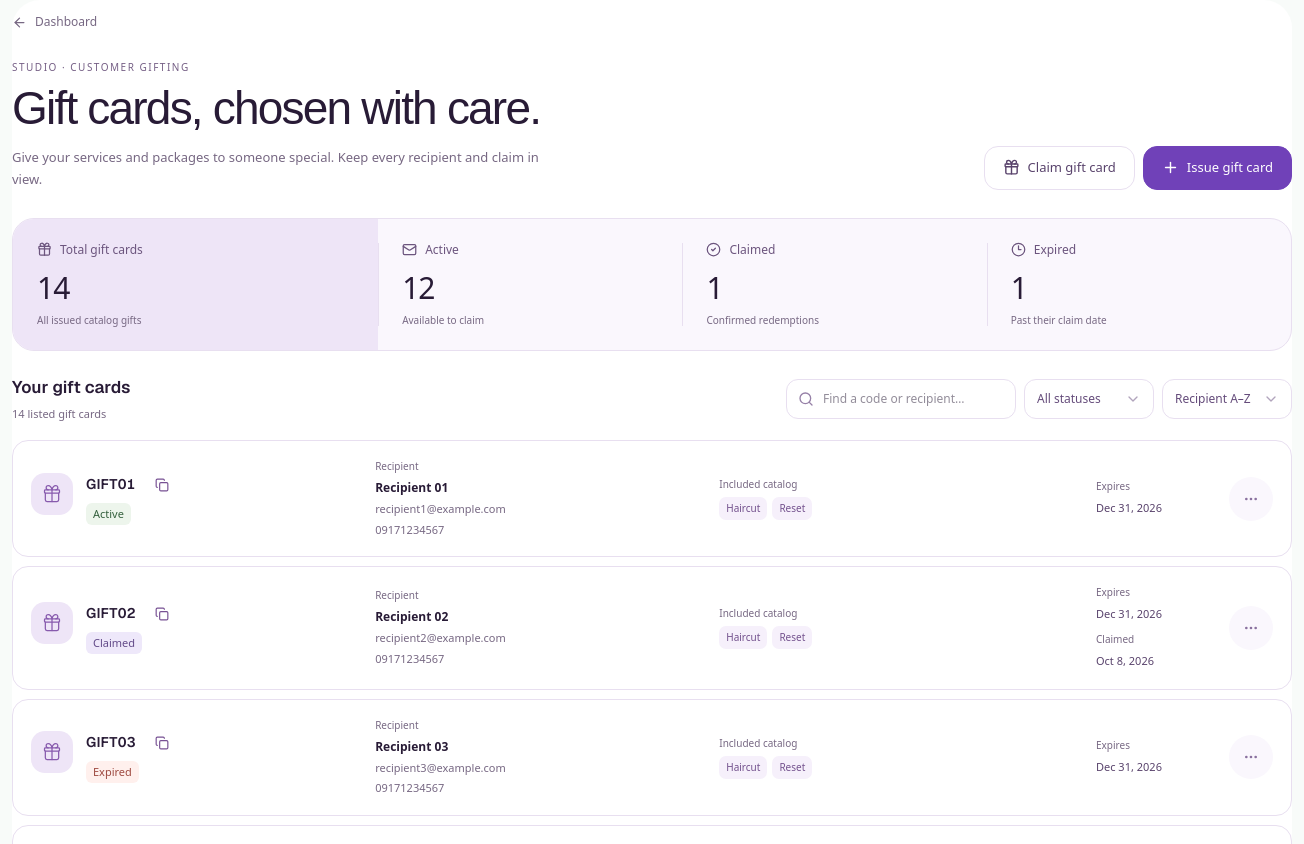
it: redesign gift cards › uses styled status and sort menus and preserves claimed and expiry dates
Press ArrowDown in the dropdown named "Filter by status", box 1024,379 -> 1154,419
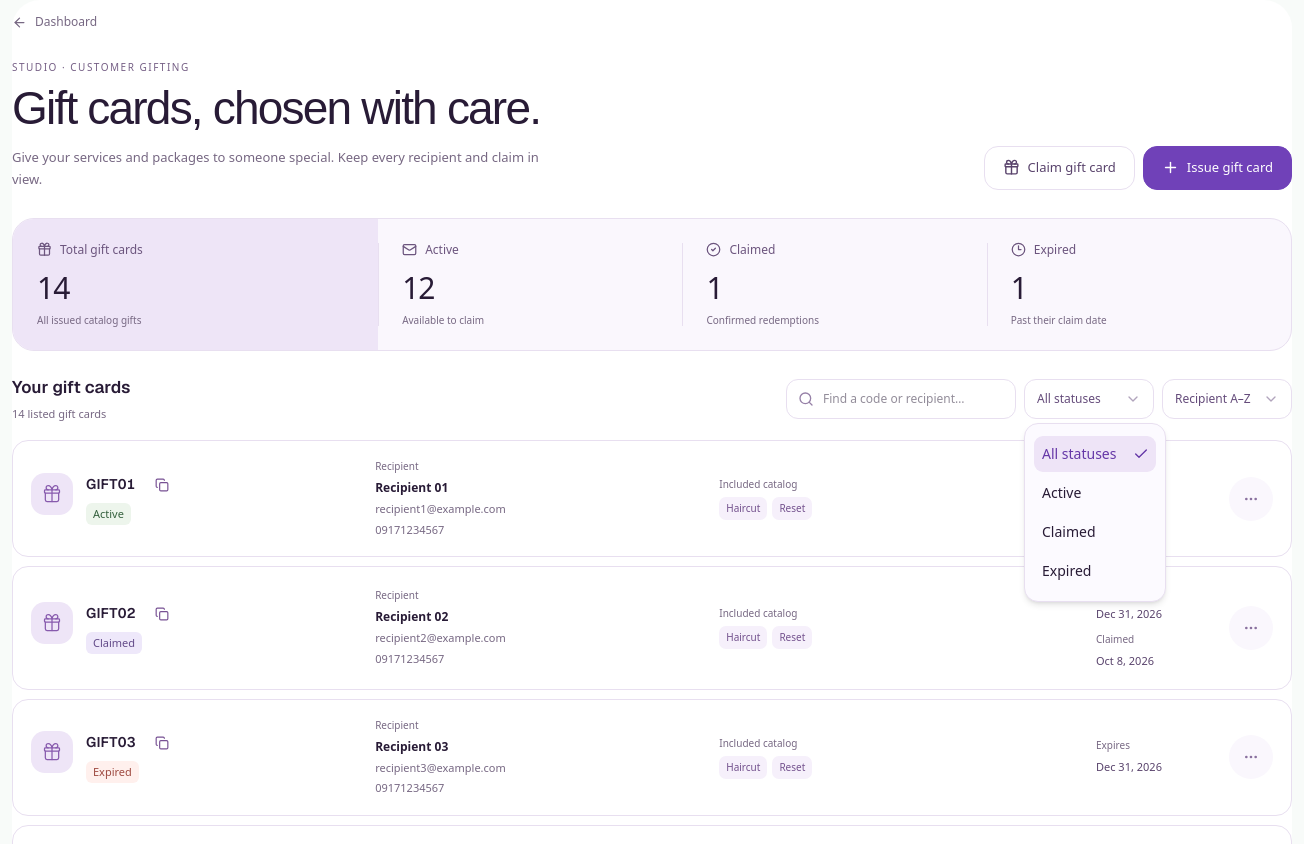
Click the option "Claimed" at (1069, 532), box 1042,522 -> 1096,541
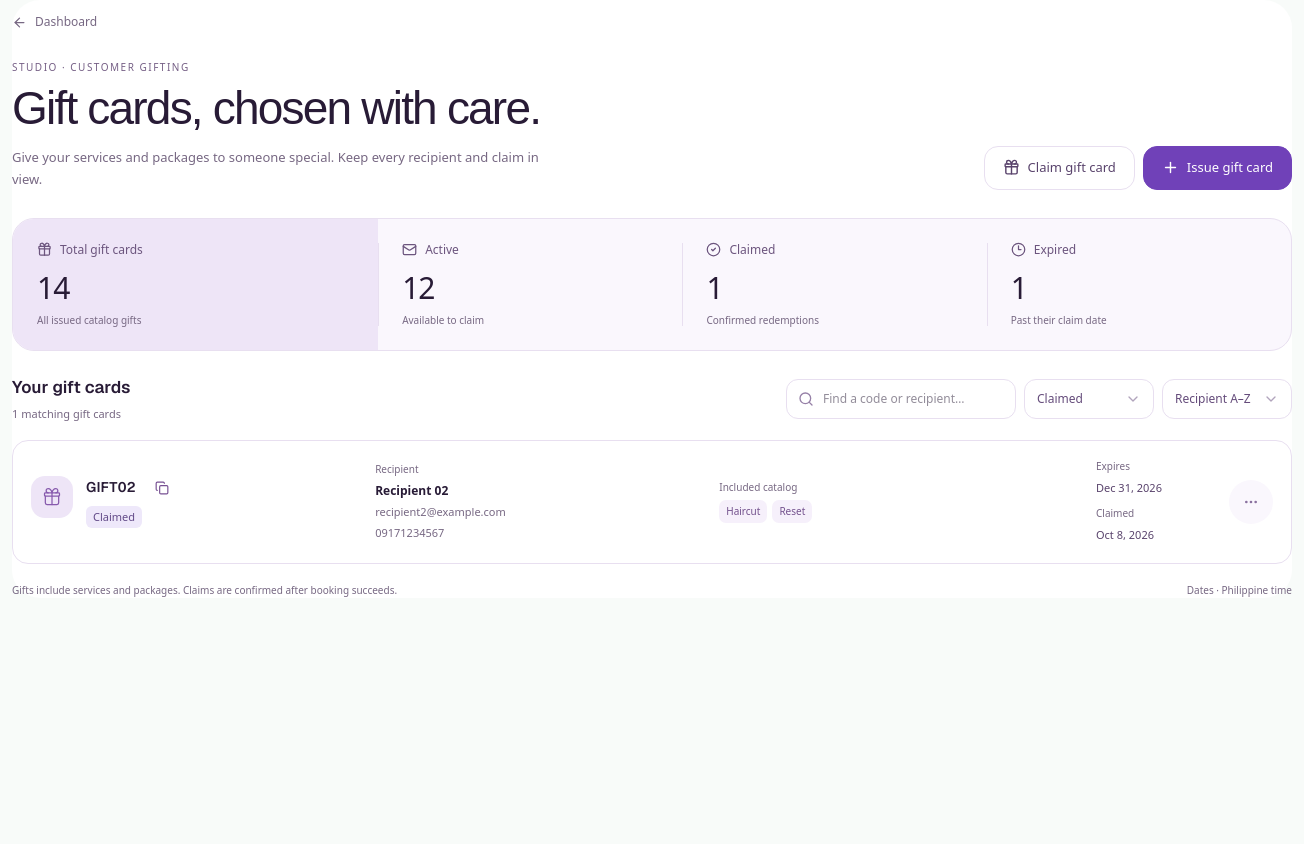
Check: the heading "GIFT02" is shown, box 86,477 -> 136,498
Check: the number of list items is 1, box 12,440 -> 1292,564
Press ArrowDown in the dropdown named "Sort gift cards", box 1162,379 -> 1292,419
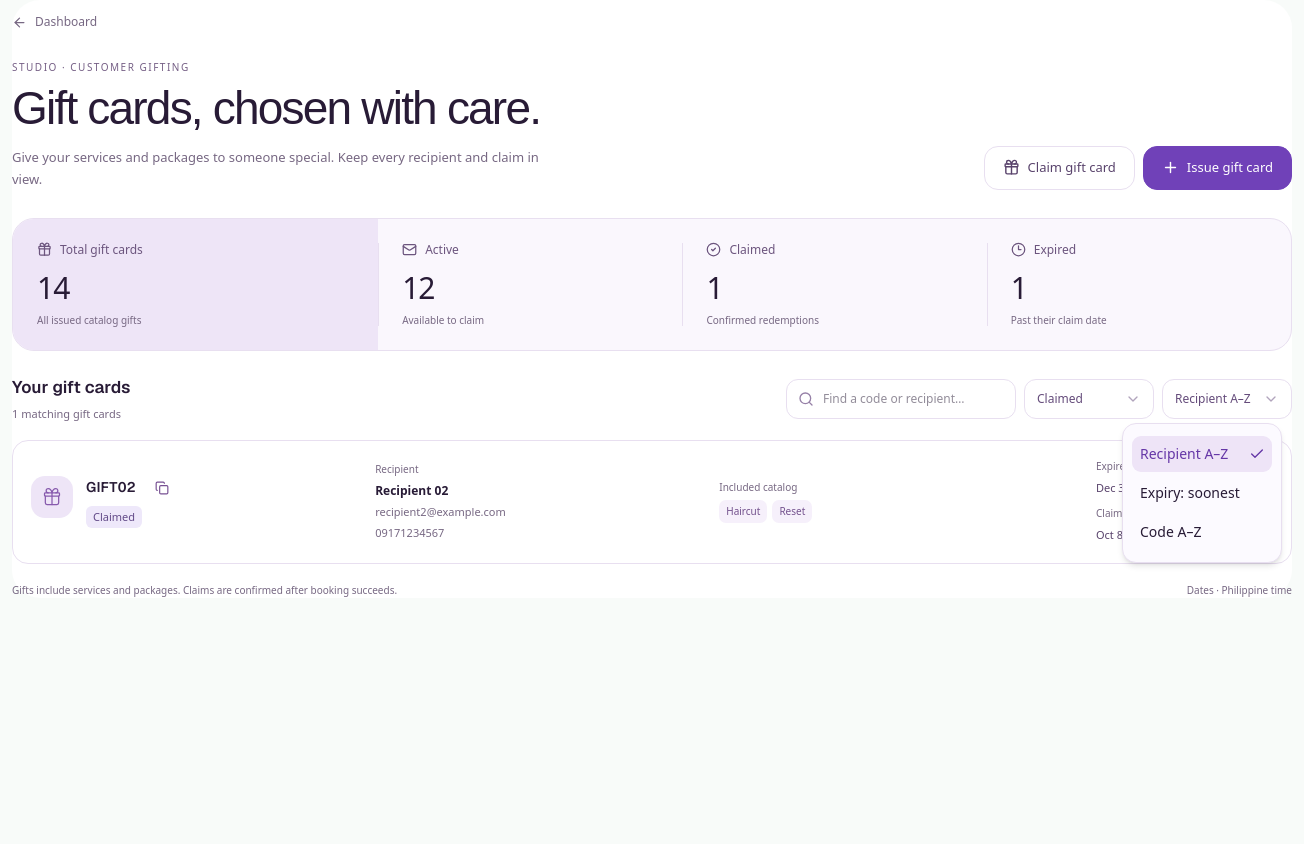
Click the option "Code A–Z" at (1171, 532), box 1140,522 -> 1201,541
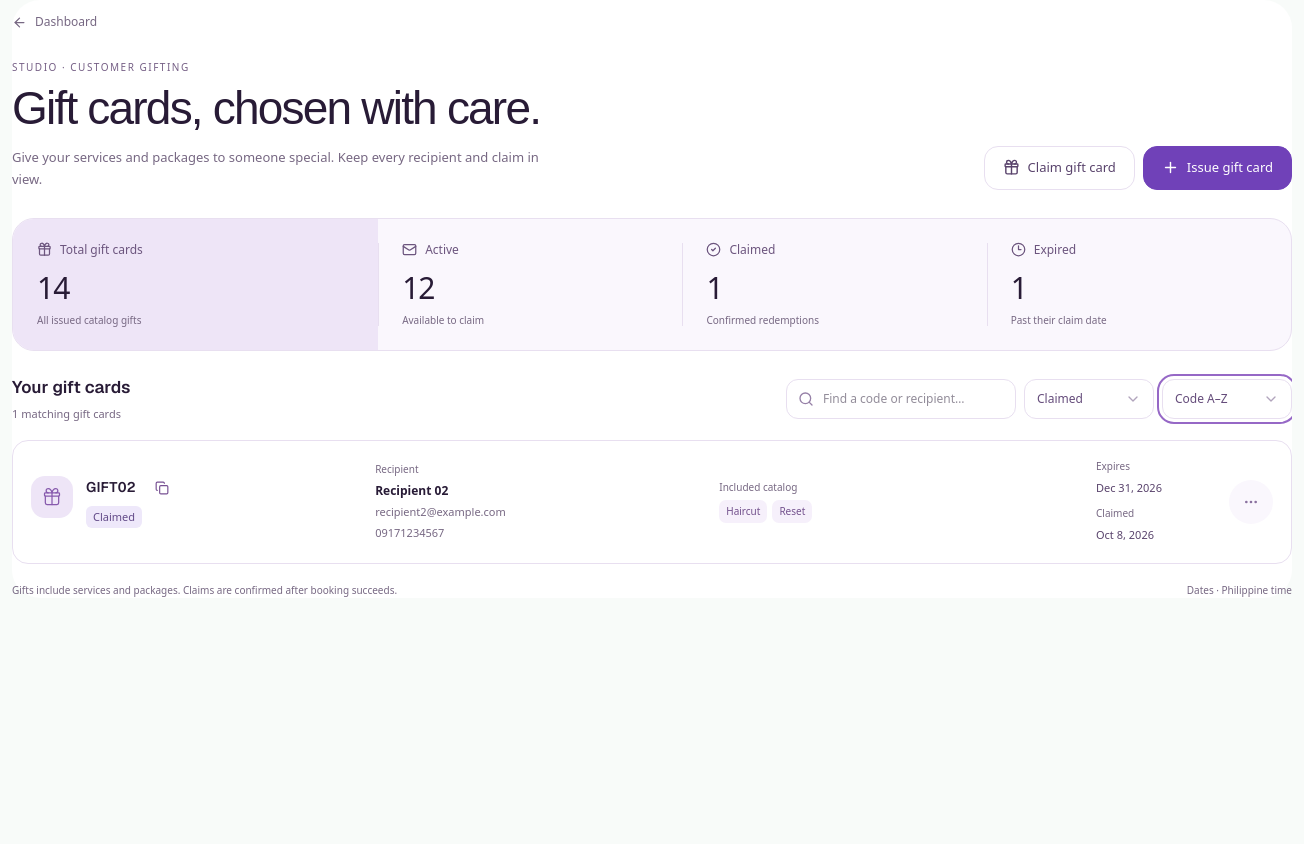
Check: the dropdown named "Sort gift cards" reads "Code A–Z", box 1162,379 -> 1292,419
